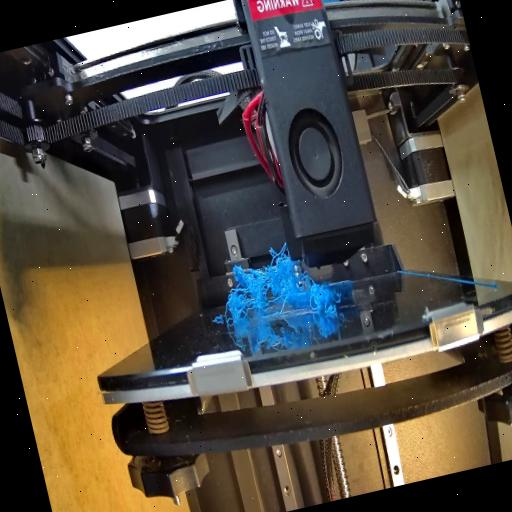spaghetti: (215, 254, 304, 325), (304, 276, 342, 321)
